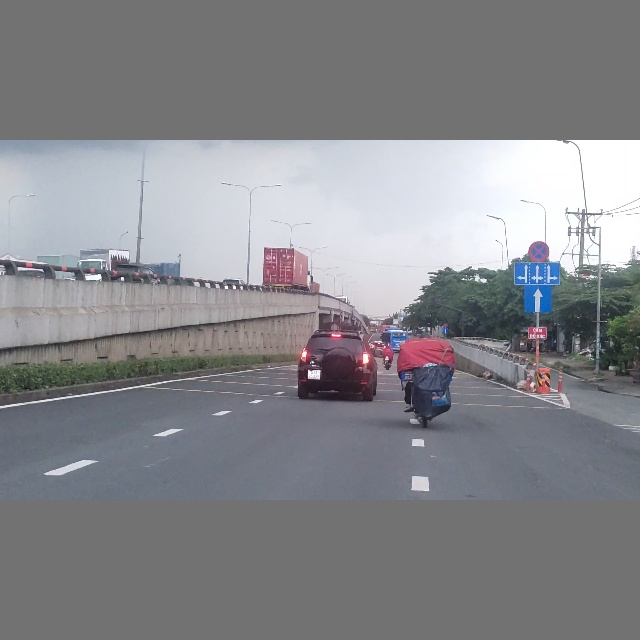I.407a: (524, 284, 551, 312)
P.130: (528, 241, 549, 262)
